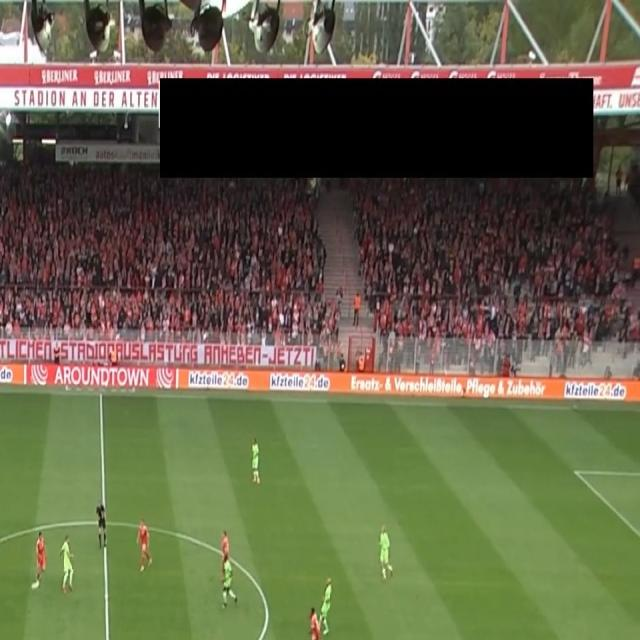ball: (31, 579, 38, 591)
